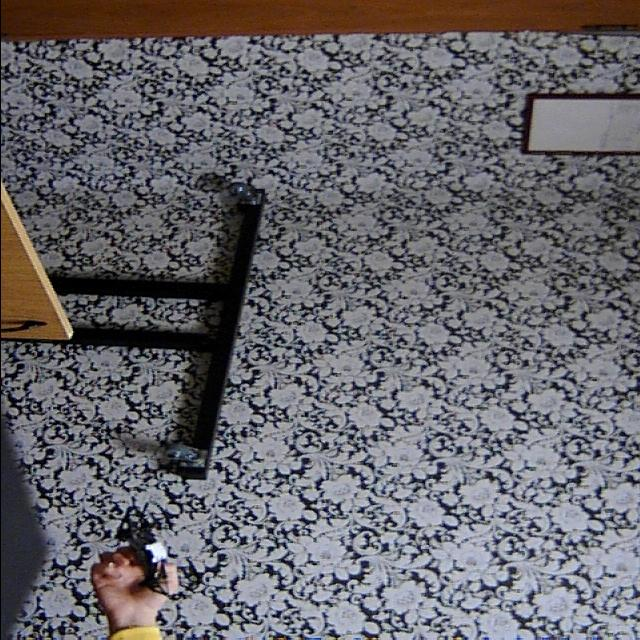drone: (108, 492, 200, 602)
